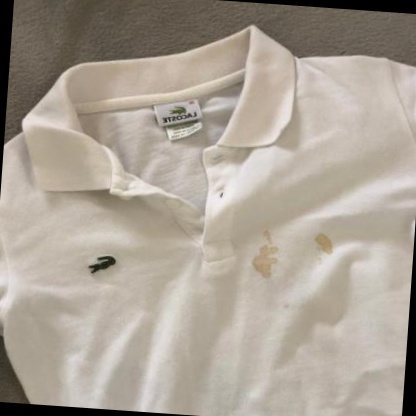coffee: (251, 243, 277, 279), (316, 234, 334, 254)
